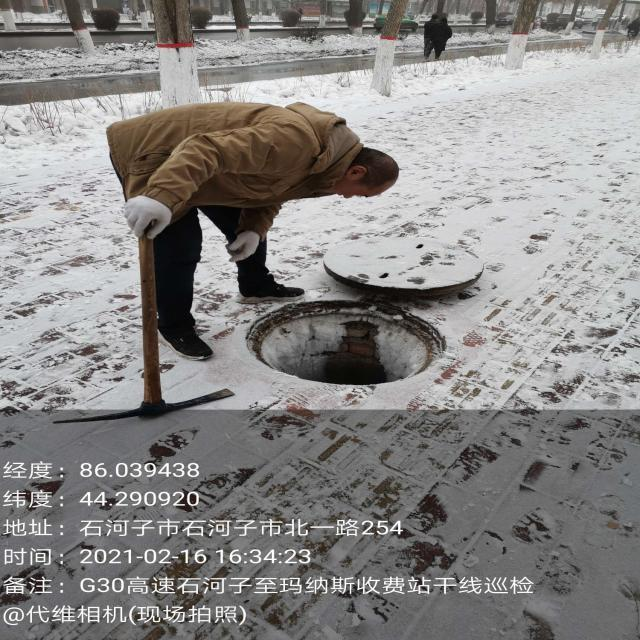manhole: (248, 301, 444, 384)
